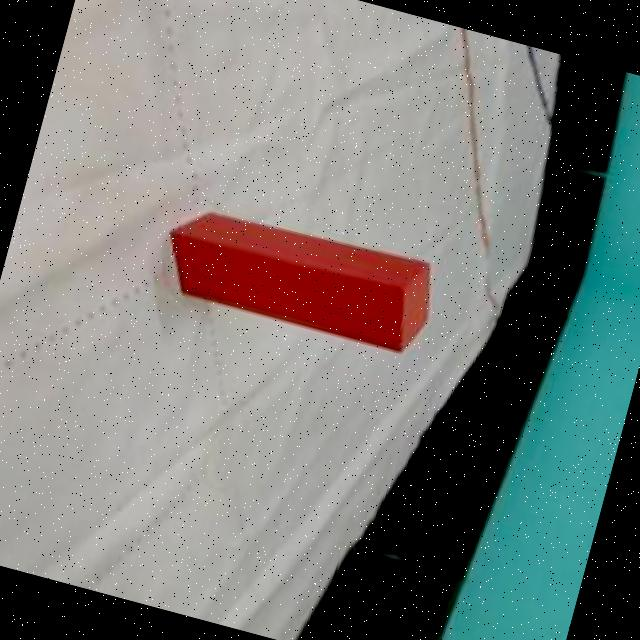redbox: (156, 192, 445, 359)
